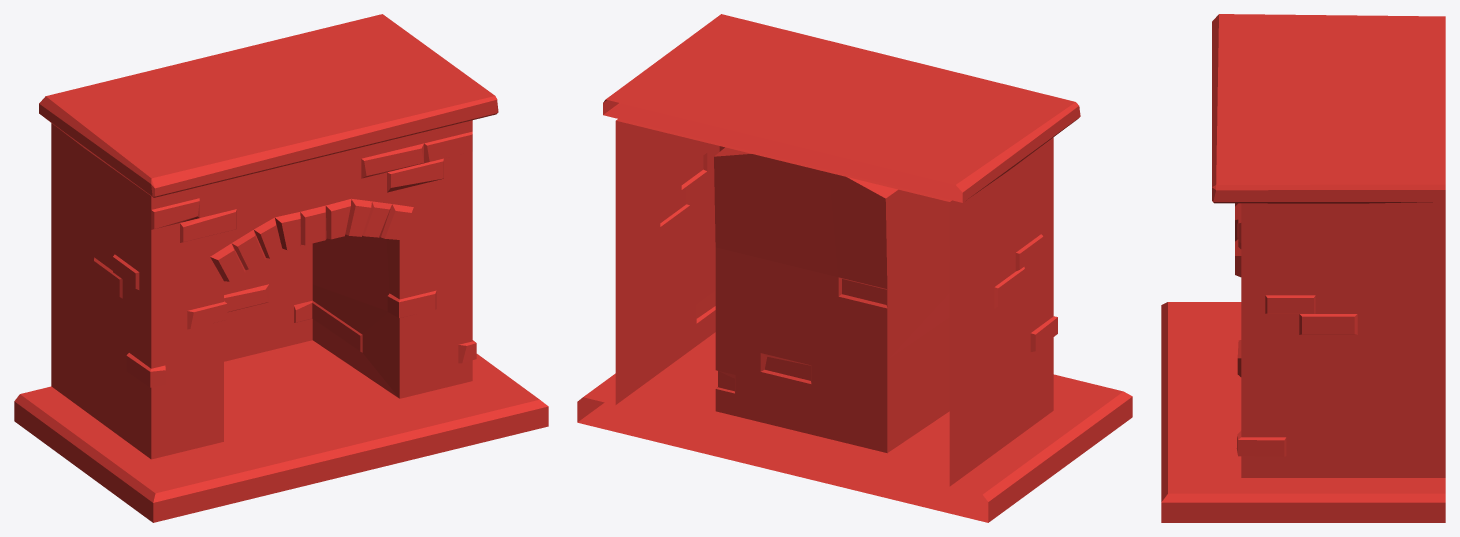
Rendered from SM_Fireplace_Brick.fbx.
The picture shows the model from 3 angles, left to right: view 1: azimuth 30°, elevation 25°; view 2: azimuth 150°, elevation 25°; view 3: azimuth 270°, elevation 25°; orthographic projection. The views are drawn at different scales.
Parts seen in each view (by area): view 1: fireplace-brick; view 2: fireplace-brick; view 3: fireplace-brick.
Boxes of the visible parts, x1,y1,x2,y2 form: fireplace-brick: (14,14,548,522); fireplace-brick: (577,14,1132,522); fireplace-brick: (1161,14,1445,522).
Bounding box in the file's own units: 1.6 × 1.23 × 0.9734.
